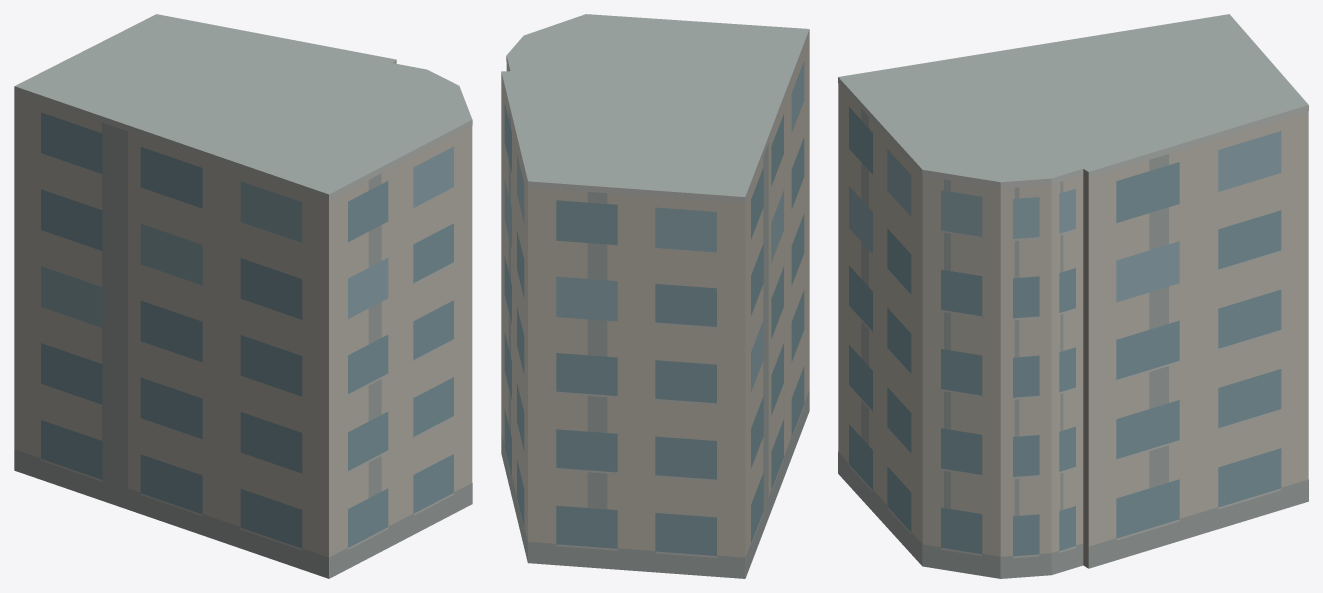
Rendered from residential-a0cc0311-ee90-4923-8009-7a919b3c47d9.glb.
3 views of the same model, side by side, from view 1: azimuth 30°, elevation 25°; view 2: azimuth 150°, elevation 25°; view 3: azimuth 270°, elevation 25° (orthographic). The views are drawn at different scales.
Parts seen in each view (by area): view 1: residential-a0cc0311-ee90-4923-8009-7a919b3c47d9.tmp; view 2: residential-a0cc0311-ee90-4923-8009-7a919b3c47d9.tmp; view 3: residential-a0cc0311-ee90-4923-8009-7a919b3c47d9.tmp.
Part boxes in pixels (bbox=[...]): residential-a0cc0311-ee90-4923-8009-7a919b3c47d9.tmp: bbox=[14, 14, 472, 578]; residential-a0cc0311-ee90-4923-8009-7a919b3c47d9.tmp: bbox=[501, 14, 809, 578]; residential-a0cc0311-ee90-4923-8009-7a919b3c47d9.tmp: bbox=[838, 14, 1308, 578].
Bounding box in the file's own units: 13.88 × 15.25 × 16.41.
